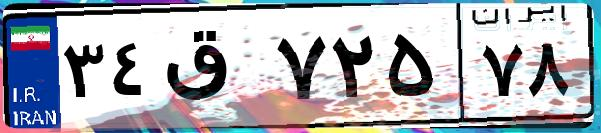2: (330, 28, 385, 110)
3: (57, 26, 110, 100)
4: (110, 28, 158, 98)
5: (385, 28, 445, 110)
7: (270, 28, 330, 110), (475, 38, 525, 113)
8: (525, 38, 570, 115)
ق: (158, 20, 270, 120)
